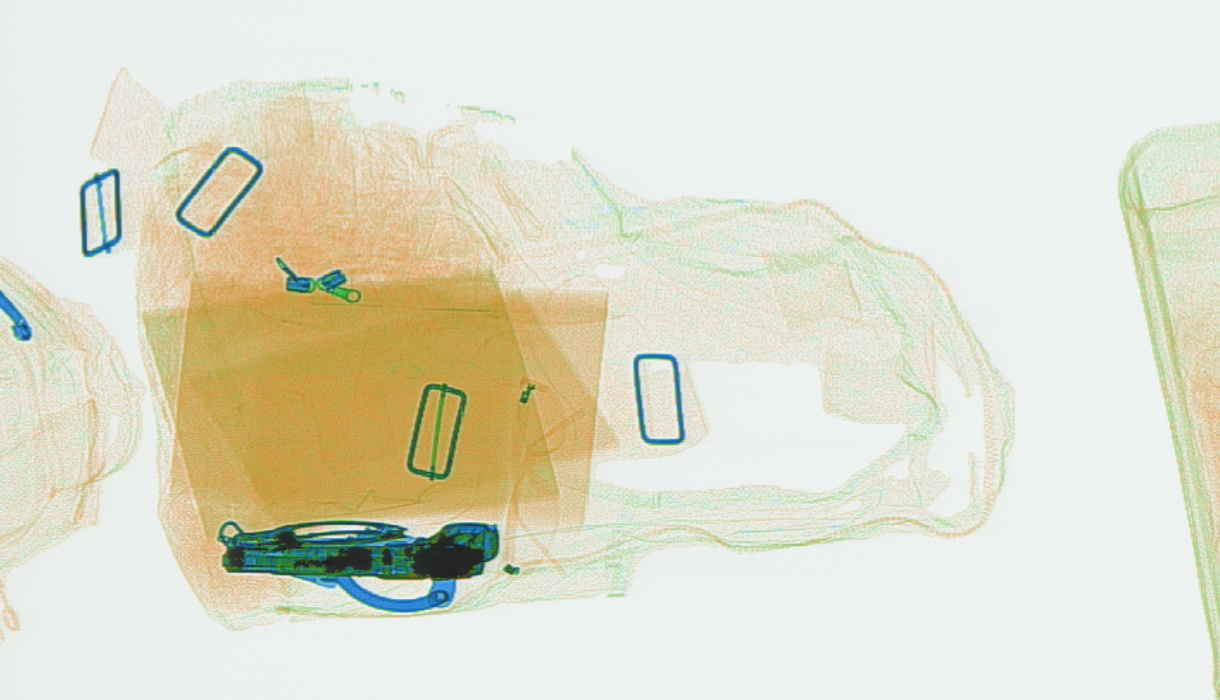knife: (214, 513, 495, 585)
